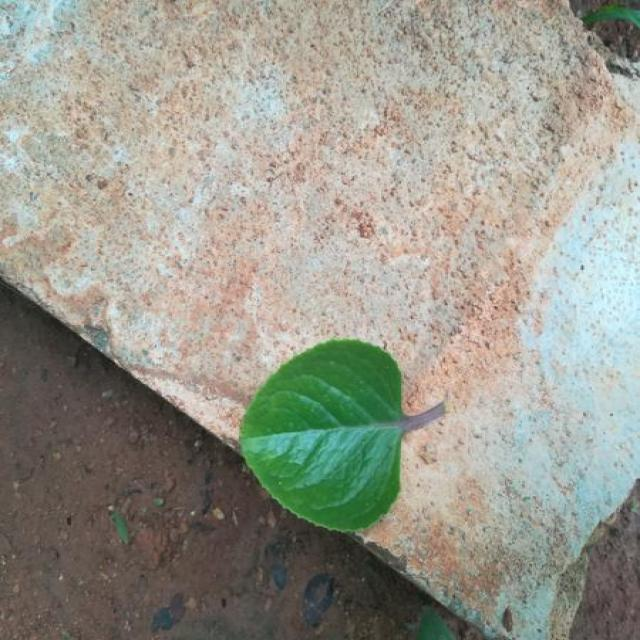doddpathre: (240, 339, 445, 531)
